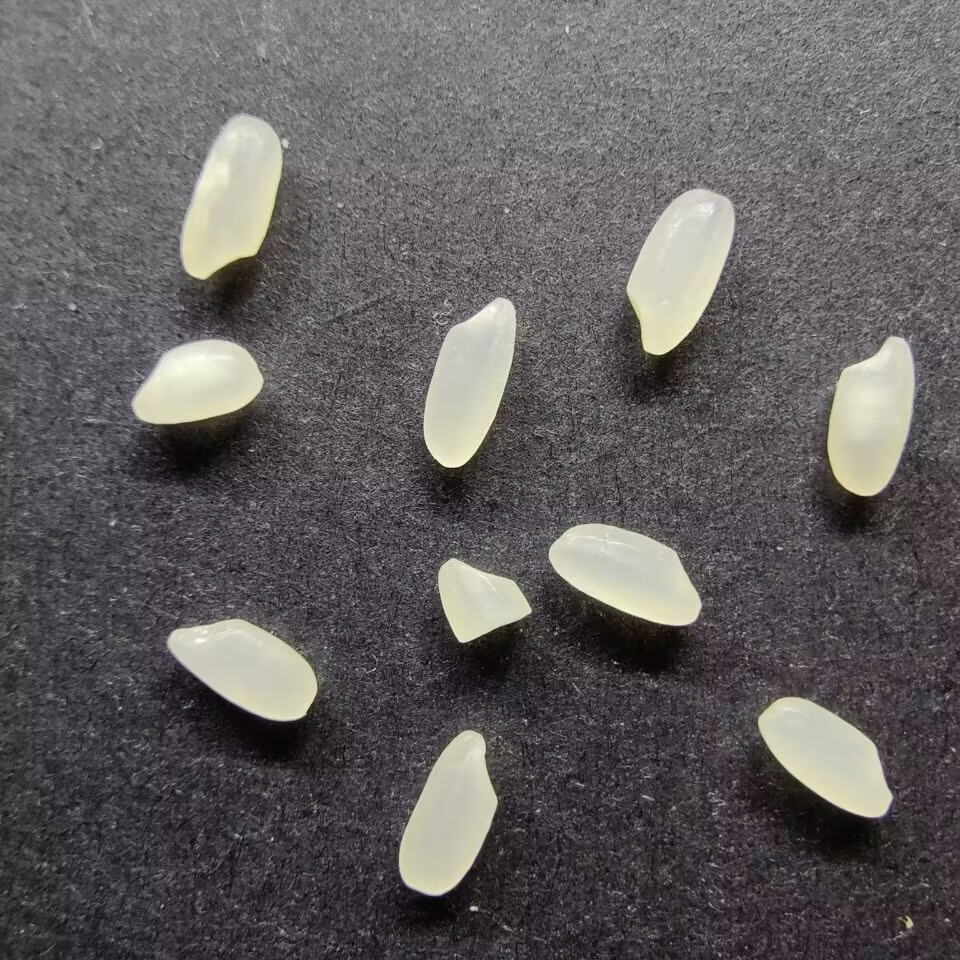broken: (435, 555, 534, 645)
rice: (624, 187, 737, 356), (394, 729, 501, 897), (179, 113, 282, 281), (757, 696, 896, 820), (420, 294, 517, 469), (546, 521, 703, 628), (165, 616, 320, 724), (826, 333, 916, 496), (131, 338, 265, 426)
